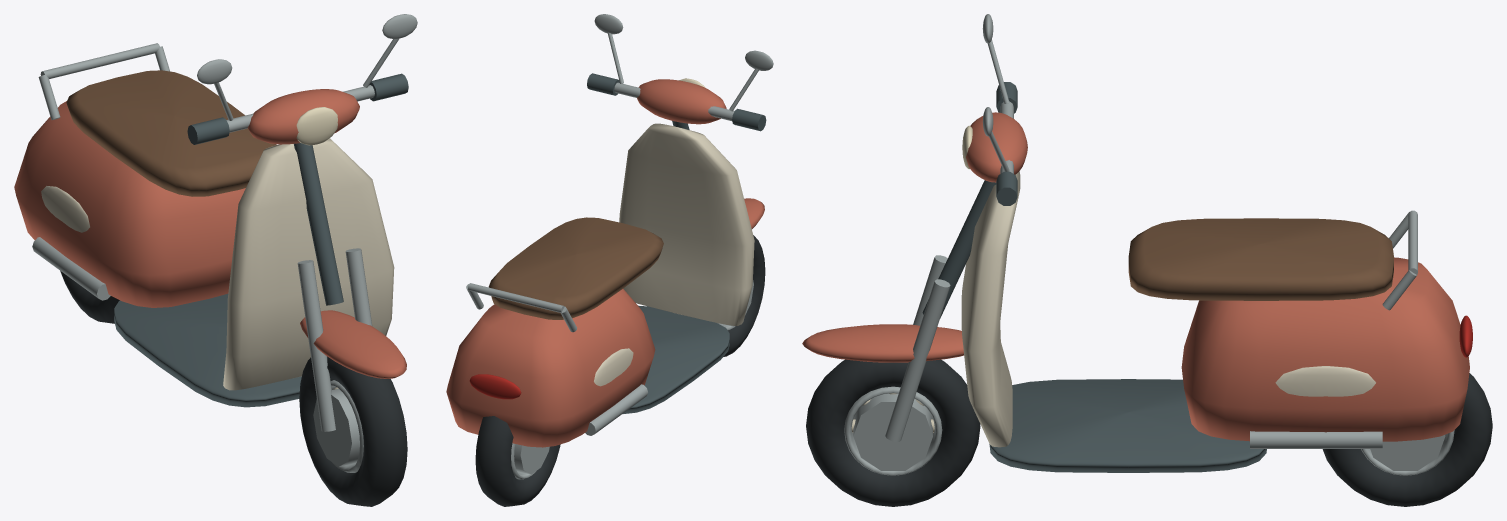
The model's file is scooter.glb.
3 renders of one model, left to right at view 1: azimuth 30°, elevation 25°; view 2: azimuth 150°, elevation 25°; view 3: azimuth 270°, elevation 25°, orthographic. The views are drawn at different scales.
Visible parts, largest first — view 1: scooter:body:LOD0, scooter:steering:LOD0, scooter:pivot.wheel.front:LOD0, scooter:pivot.wheel.rear:LOD0; view 2: scooter:body:LOD0, scooter:steering:LOD0, scooter:pivot.wheel.rear:LOD0, scooter:pivot.wheel.front:LOD0; view 3: scooter:body:LOD0, scooter:pivot.wheel.front:LOD0, scooter:steering:LOD0, scooter:pivot.wheel.rear:LOD0.
Boxes of the visible parts, bbox=[...] form: scooter:body:LOD0: bbox=[14, 43, 394, 407]; scooter:steering:LOD0: bbox=[187, 14, 417, 431]; scooter:pivot.wheel.front:LOD0: bbox=[299, 356, 407, 506]; scooter:pivot.wheel.rear:LOD0: bbox=[60, 271, 119, 323]; scooter:body:LOD0: bbox=[446, 123, 754, 447]; scooter:steering:LOD0: bbox=[587, 14, 773, 228]; scooter:pivot.wheel.rear:LOD0: bbox=[475, 416, 560, 506]; scooter:pivot.wheel.front:LOD0: bbox=[717, 235, 765, 356]; scooter:body:LOD0: bbox=[961, 171, 1472, 472]; scooter:pivot.wheel.front:LOD0: bbox=[806, 359, 980, 506]; scooter:steering:LOD0: bbox=[802, 14, 1027, 441]; scooter:pivot.wheel.rear:LOD0: bbox=[1322, 373, 1492, 506].
Size of what is drawn, in the model's own units: 0.69 by 1.28 by 1.82.
